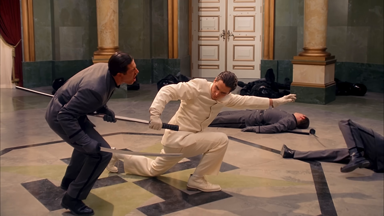bladed_weapon: (87, 110, 181, 134), (97, 139, 183, 160), (14, 82, 55, 100), (308, 128, 326, 146)
